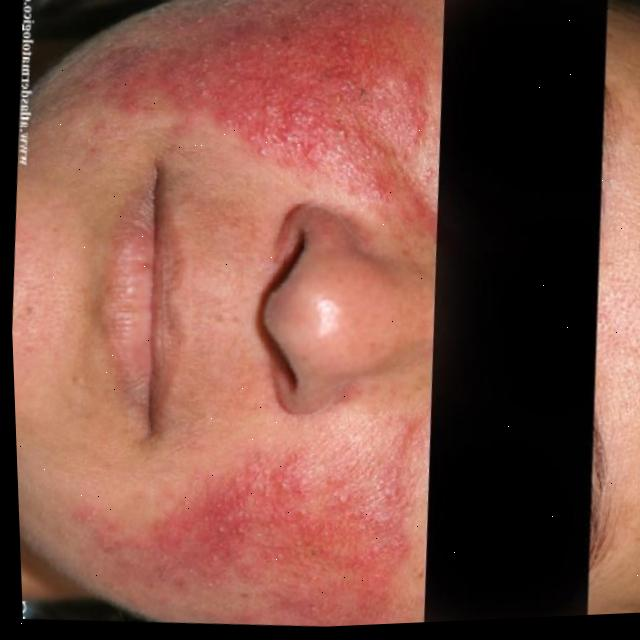Rosacea: (132, 0, 399, 162), (201, 434, 375, 621)
